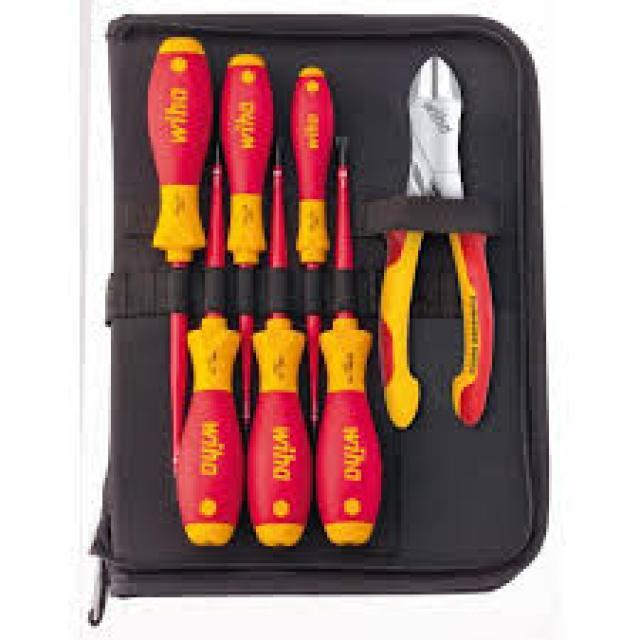screwdriver: (144, 29, 213, 473), (172, 140, 246, 550), (243, 139, 317, 549), (318, 134, 386, 552), (213, 45, 282, 441), (288, 61, 342, 434)
